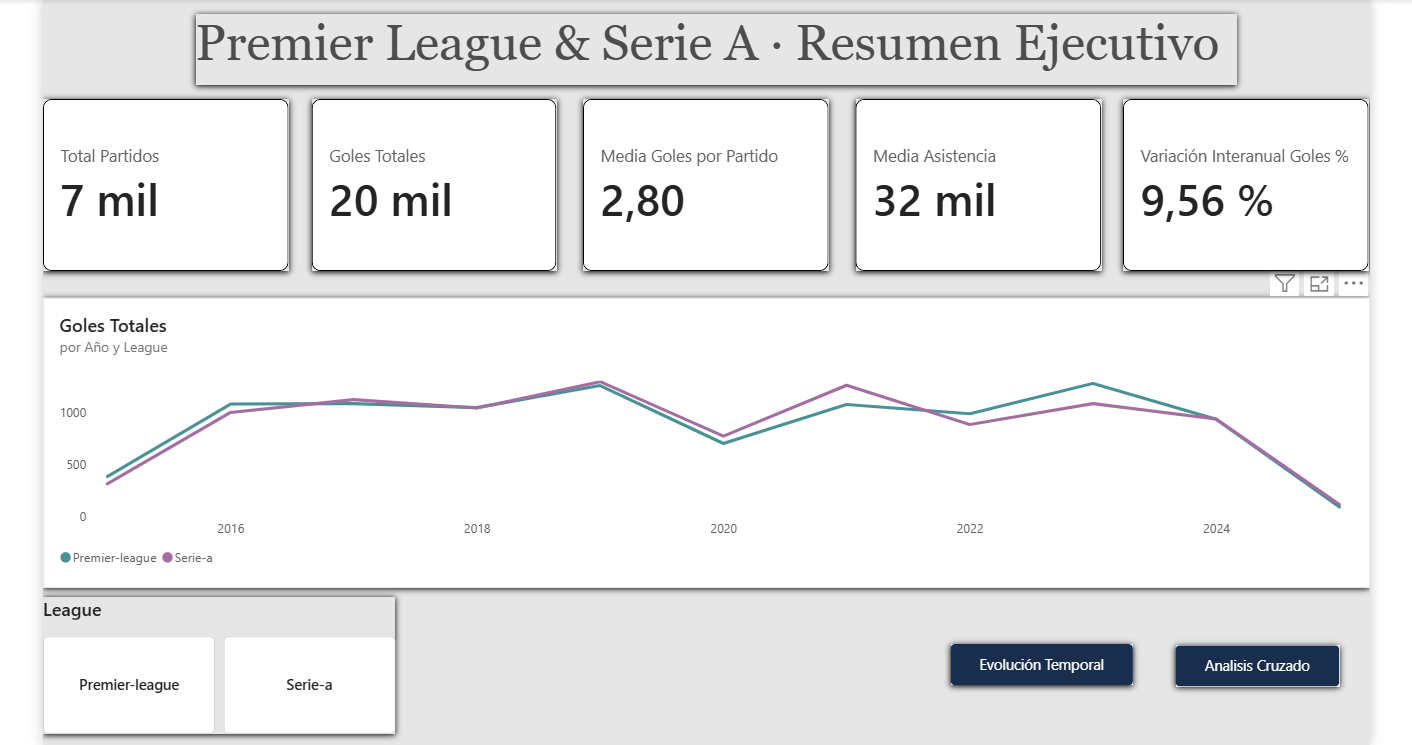

This screenshot's page, from the dashboard's own definition file:
{"tool":"powerbi","page":{"name":"Resumen Ejecutivo","canvas":[1280,720],"ordinal":0},"visuals":[{"type":"cardVisual","fields":{"Data":["Medidas.Total Partidos"]},"box":[0,96.5,237.7,166.5],"z":0},{"type":"cardVisual","fields":{"Data":["Medidas.Goles Totales"]},"box":[259.4,96.5,236.5,166.5],"z":1000},{"type":"cardVisual","fields":{"Data":["Medidas.Media Goles por Partido"]},"box":[521.2,96.5,237.7,166.5],"z":2000},{"type":"cardVisual","fields":{"Data":["Medidas.Media Asistencia"]},"box":[784.2,96.5,237.7,166.5],"z":3000},{"type":"lineChart","fields":{"Category":["Dim_Calendario.Año"],"Series":["Dim_liga.League"],"Y":["Medidas.Goles Totales"]},"box":[0,288.3,1280.2,280.2],"z":4000},{"type":"textbox","box":[147.2,14.5,1005,68.8],"z":5000},{"type":"advancedSlicerVisual","fields":{"Values":["Dim_liga.League"]},"box":[0,576.7,340.2,132.7],"z":6000},{"type":"cardVisual","fields":{"Data":["Medidas.Variación Interanual Goles %"]},"box":[1042.4,96.5,237.7,166.5],"z":7000},{"type":"actionButton","box":[875.9,622.5,176.1,39.8],"z":7001},{"type":"actionButton","box":[1093,623.7,158,39.8],"z":7003}]}

Visuals, with their boxes on the page's 1280x720 design canvas (x1, y1, x2, y2). These are canvas units, not pixel positions in the 1412x745 screenshot, which may show the page scaled, cropped or inside an application window:
cardVisual - Medidas.Total Partidos: 0, 96, 238, 263
cardVisual - Medidas.Goles Totales: 259, 96, 496, 263
cardVisual - Medidas.Media Goles por Partido: 521, 96, 759, 263
cardVisual - Medidas.Media Asistencia: 784, 96, 1022, 263
lineChart - Dim_Calendario.Año x Dim_liga.League: 0, 288, 1280, 568
textbox: 147, 14, 1152, 83
advancedSlicerVisual - Dim_liga.League: 0, 577, 340, 709
cardVisual - Medidas.Variación Interanual Goles %: 1042, 96, 1280, 263
actionButton: 876, 622, 1052, 662
actionButton: 1093, 624, 1251, 664
